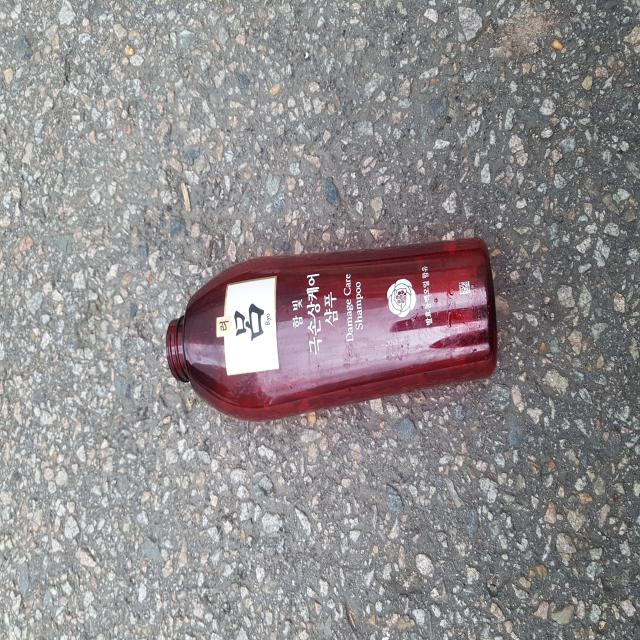bottle: (166, 247, 504, 427)
